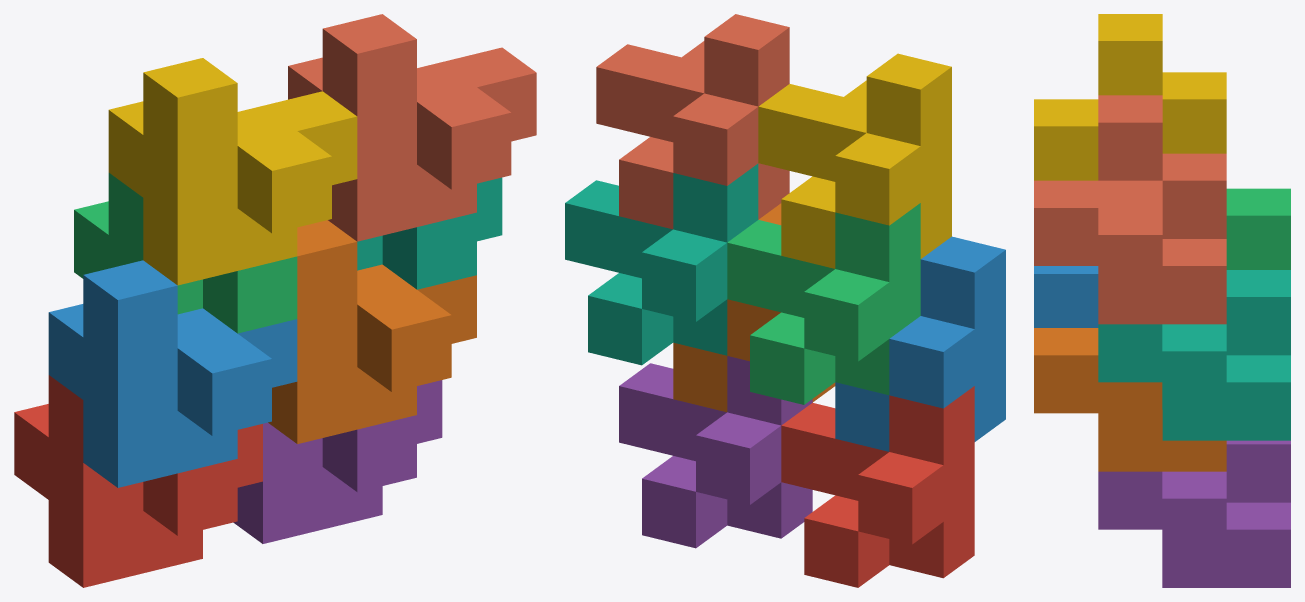
Rendered from tiling.obj.
3 renders of one model, left to right at view 1: azimuth 30°, elevation 25°; view 2: azimuth 150°, elevation 25°; view 3: azimuth 270°, elevation 25°, orthographic. The views are drawn at different scales.
Visible parts, largest first — view 1: copy_1_domain_4, copy_1_domain_2, copy_1_domain_8, copy_1_domain_6, copy_1_domain_1, copy_1_domain_5, copy_1_domain_3, copy_1_domain_7; view 2: copy_1_domain_4, copy_1_domain_1, copy_1_domain_3, copy_1_domain_8, copy_1_domain_7, copy_1_domain_5, copy_1_domain_2, copy_1_domain_6; view 3: copy_1_domain_8, copy_1_domain_7, copy_1_domain_5, copy_1_domain_4, copy_1_domain_6, copy_1_domain_3, copy_1_domain_2.
Boxes of the visible parts, x1,y1,x2,y2 form: copy_1_domain_4: (108,58,357,285); copy_1_domain_2: (48,260,297,487); copy_1_domain_8: (288,14,536,241); copy_1_domain_6: (268,220,476,443); copy_1_domain_1: (14,375,262,587); copy_1_domain_5: (233,380,442,543); copy_1_domain_3: (74,173,297,333); copy_1_domain_7: (357,177,502,289); copy_1_domain_4: (758,53,951,268); copy_1_domain_1: (781,386,974,587); copy_1_domain_3: (727,203,920,404); copy_1_domain_8: (596,14,789,229); copy_1_domain_7: (565,163,758,365); copy_1_domain_5: (619,356,812,548); copy_1_domain_2: (835,236,1005,451); copy_1_domain_6: (673,203,835,412); copy_1_domain_8: (1034,95,1226,324); copy_1_domain_7: (1098,270,1290,440); copy_1_domain_5: (1098,440,1290,587); copy_1_domain_4: (1034,14,1226,180); copy_1_domain_6: (1034,328,1226,471); copy_1_domain_3: (1226,188,1290,269); copy_1_domain_2: (1034,266,1098,327).
Size of the model in its own units: 7 by 8 by 4.
